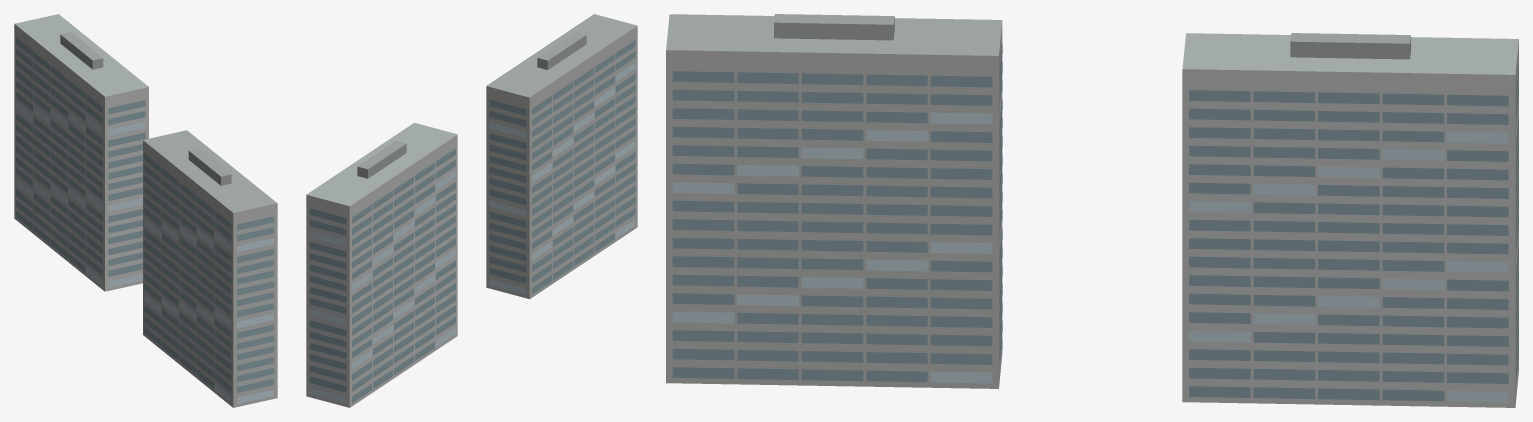
File: apt-a13980401.glb
3 renders of one model, left to right at view 1: azimuth 30°, elevation 25°; view 2: azimuth 150°, elevation 25°; view 3: azimuth 270°, elevation 25°, orthographic. The views are drawn at different scales.
Parts seen in each view (by area): view 1: apt-a13980401; view 2: apt-a13980401; view 3: apt-a13980401.
Boxes of the visible parts, x1,y1,x2,y2 form: apt-a13980401: (14,14,277,407); apt-a13980401: (306,14,637,407); apt-a13980401: (666,14,1518,407).
Bounding box in the file's own units: 17.96 × 48 × 106.
